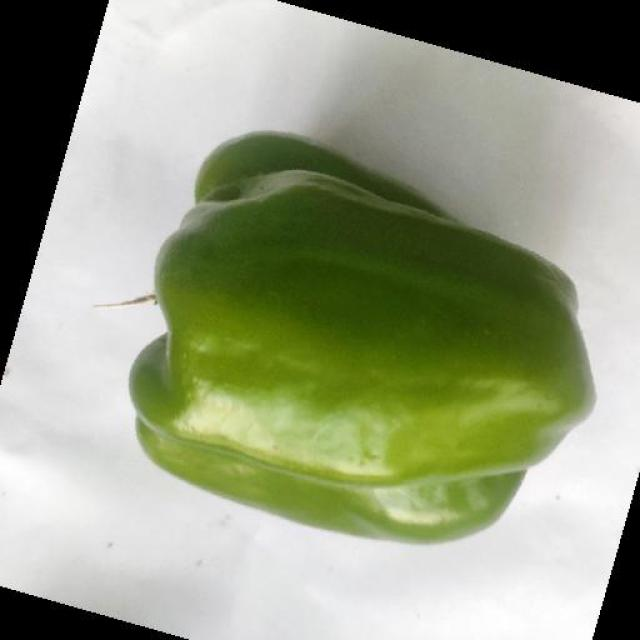Fresh_Capsicum: (131, 159, 566, 571)
